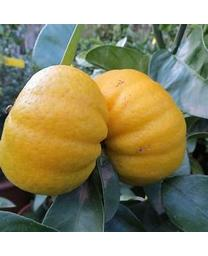lemon: (0, 65, 110, 197), (91, 69, 187, 187)
